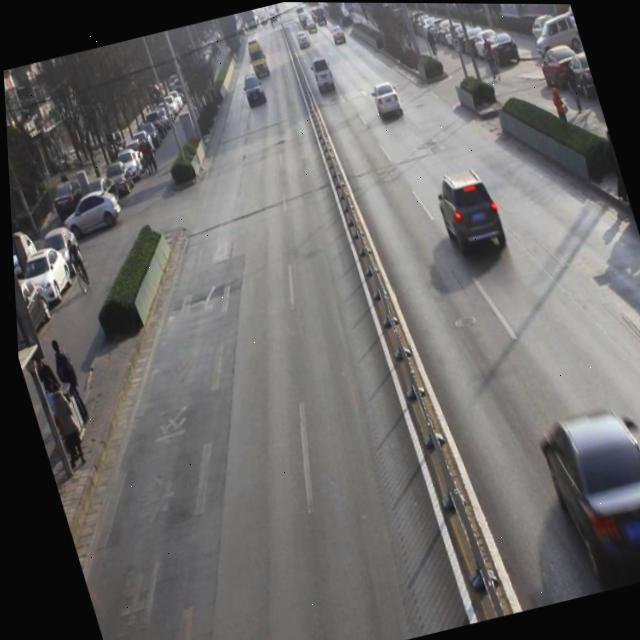car: (525, 394, 640, 578), (425, 160, 509, 266), (367, 79, 405, 122), (239, 69, 270, 113)
truck: (308, 52, 337, 95), (243, 37, 271, 74)
